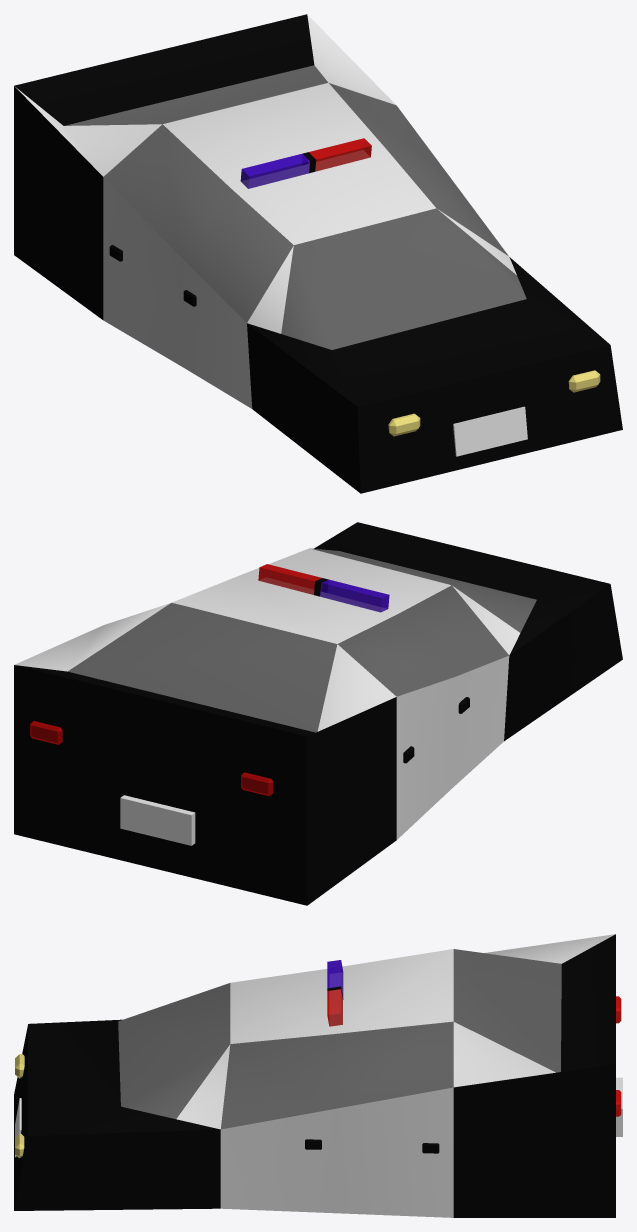
The model's file is EnemyCarModel.fbx.
3 renders of one model, top to bottom at view 1: azimuth 30°, elevation 25°; view 2: azimuth 150°, elevation 25°; view 3: azimuth 270°, elevation 25°, orthographic. The views are drawn at different scales.
Visible parts, largest first — view 1: Car, pCube5, NumberPlate2; view 2: Car, NumberPlate1, pCube5, BrakeLight_2, BrakeLight_1; view 3: Car, pCube5.
Boxes of the visible parts, x1,y1,x2,y2 form: Car: [14, 14, 622, 493]; pCube5: [240, 138, 371, 188]; NumberPlate2: [453, 406, 527, 456]; Car: [14, 522, 622, 905]; NumberPlate1: [120, 795, 195, 845]; pCube5: [258, 564, 389, 612]; BrakeLight_2: [241, 772, 273, 796]; BrakeLight_1: [30, 721, 62, 744]; Car: [14, 934, 615, 1217]; pCube5: [327, 960, 343, 1026].
Bounding box in the file's own units: 2.42 × 1.42 × 4.73.
